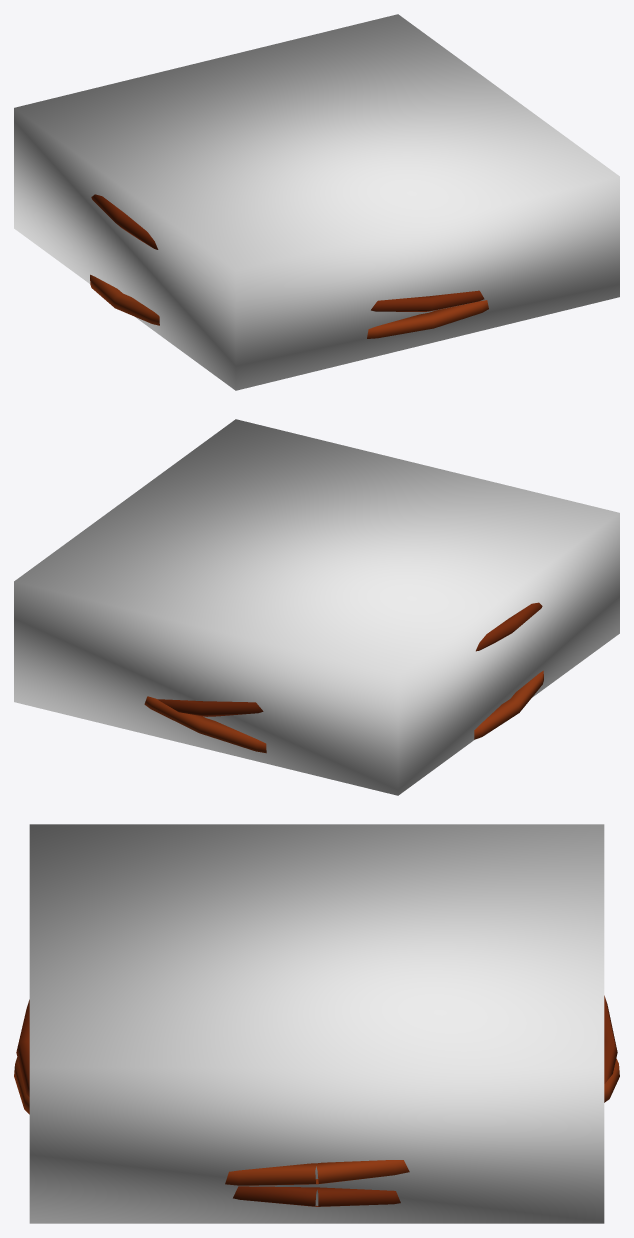
The model's file is chatarra_cobre.glb.
3 views of the same model, one above another, from view 1: azimuth 30°, elevation 25°; view 2: azimuth 150°, elevation 25°; view 3: azimuth 270°, elevation 25° (orthographic). The views are drawn at different scales.
Parts seen in each view (by area): view 1: cobre-colcaja, cobre; view 2: cobre-colcaja, cobre; view 3: cobre-colcaja, cobre.
Part boxes in pixels (<box>): cobre-colcaja: <box>14,14,619,390</box>; cobre: <box>90,194,488,338</box>; cobre-colcaja: <box>14,419,619,795</box>; cobre: <box>144,602,543,753</box>; cobre-colcaja: <box>29,824,604,1223</box>; cobre: <box>14,995,619,1206</box>.
Size of the model in its own units: 0.2109 by 0.0619 by 0.2109.
